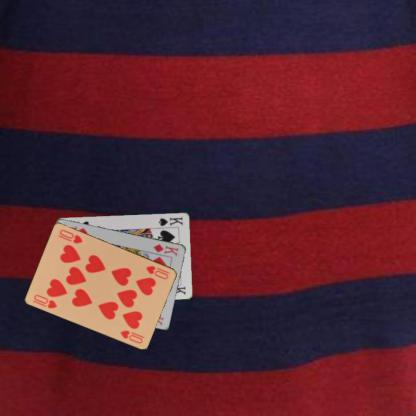10h: (143, 263, 171, 281), (32, 292, 58, 310)
Kd: (150, 242, 180, 257)
Ks: (156, 214, 184, 227)
